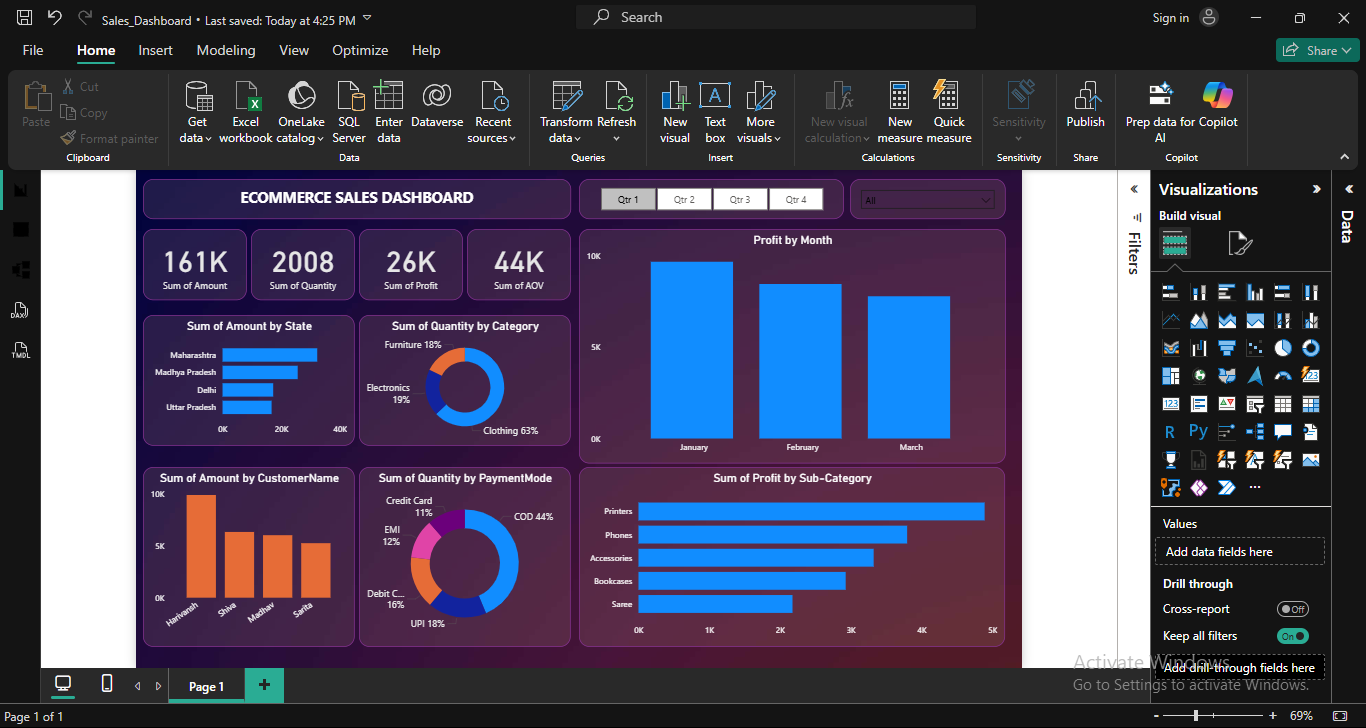

Layout of this report page (visuals, bound fields, positions):
{"tool":"powerbi","page":{"name":"Page 1","canvas":[1280,720],"ordinal":0},"visuals":[{"type":"textbox","box":[9.9,13.2,618.6,57.6],"z":0},{"type":"columnChart","title":"Profit by Month","fields":{"Category":["Orders.Order Date.Variation.Date Hierarchy.Month"],"Y":["Sum(Details.Profit)"]},"box":[640,85.6,617,338.9],"z":1000},{"type":"barChart","fields":{"Category":["Details.Sub-Category"],"Y":["Sum(Details.Profit)"]},"box":[640.5,429.4,615.9,260.2],"z":2000},{"type":"donutChart","fields":{"Category":["Details.Category"],"Y":["Sum(Details.Quantity)"]},"box":[322.5,208.9,306,189.2],"z":3000},{"type":"donutChart","fields":{"Y":["Sum(Details.Quantity)"],"Category":["Details.PaymentMode"]},"box":[322.5,429.4,306,259.9],"z":4000},{"type":"card","fields":{"Values":["Sum(Details.Amount)"]},"box":[10.1,85.3,150.4,102.7],"z":5000},{"type":"card","fields":{"Values":["Sum(Details.Quantity)"]},"box":[166.3,85.3,150.4,102.7],"z":6000},{"type":"card","fields":{"Values":["Sum(Details.Profit)"]},"box":[322.4,85.3,150.4,102.7],"z":7000},{"type":"card","fields":{"Values":["Sum(Details.AOV)"]},"box":[478.6,85.3,150.4,102.7],"z":8000},{"type":"barChart","fields":{"Category":["Orders.State"],"Y":["Sum(Details.Amount)"]},"box":[9.9,208.9,306,189.2],"z":9000},{"type":"columnChart","fields":{"Category":["Orders.CustomerName"],"Y":["Sum(Details.Amount)"]},"box":[9.9,429.4,306,259.9],"z":10000},{"type":"slicer","fields":{"Values":["Orders.Order Date.Variation.Date Hierarchy.Quarter"]},"box":[640,13.2,383.3,57.6],"z":11000},{"type":"slicer","fields":{"Values":["Orders.State"]},"box":[1031.6,13.2,225.4,57.6],"z":12000}]}

Visuals, with their boxes on the page's 1280x720 design canvas (x1, y1, x2, y2). These are canvas units, not pixel positions in the 1366x728 screenshot, which may show the page scaled, cropped or inside an application window:
textbox: (x1=10, y1=13, x2=628, y2=71)
"Profit by Month" columnChart: (x1=640, y1=86, x2=1257, y2=424)
barChart - Details.Sub-Category x Sum(Details.Profit): (x1=640, y1=429, x2=1256, y2=690)
donutChart - Details.Category x Sum(Details.Quantity): (x1=322, y1=209, x2=628, y2=398)
donutChart - Sum(Details.Quantity) x Details.PaymentMode: (x1=322, y1=429, x2=628, y2=689)
card - Sum(Details.Amount): (x1=10, y1=85, x2=160, y2=188)
card - Sum(Details.Quantity): (x1=166, y1=85, x2=317, y2=188)
card - Sum(Details.Profit): (x1=322, y1=85, x2=473, y2=188)
card - Sum(Details.AOV): (x1=479, y1=85, x2=629, y2=188)
barChart - Orders.State x Sum(Details.Amount): (x1=10, y1=209, x2=316, y2=398)
columnChart - Orders.CustomerName x Sum(Details.Amount): (x1=10, y1=429, x2=316, y2=689)
slicer - Orders.Order Date.Variation.Date Hierarchy.Quarter: (x1=640, y1=13, x2=1023, y2=71)
slicer - Orders.State: (x1=1032, y1=13, x2=1257, y2=71)
